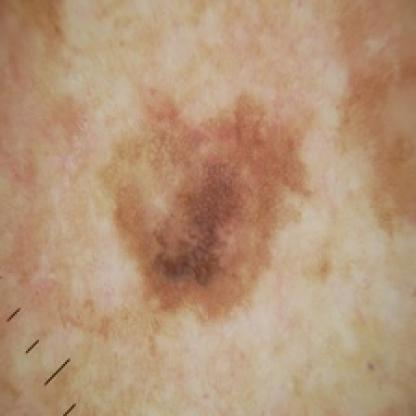malignant: (141, 95, 249, 293)
